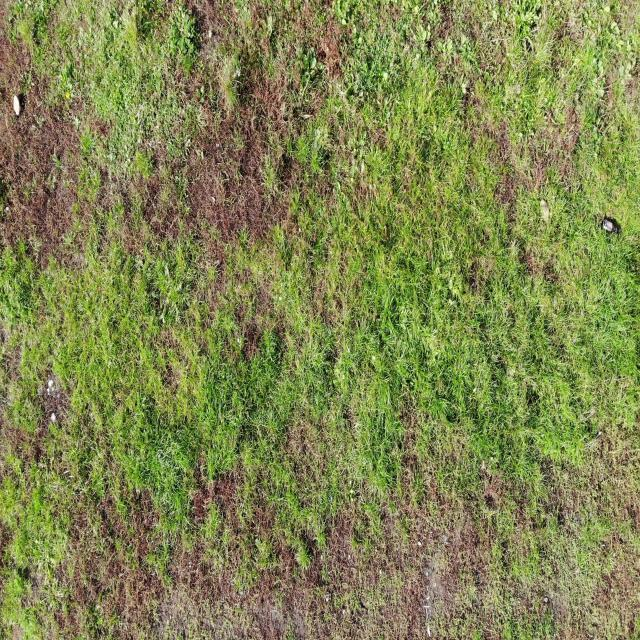rubbish: (602, 216, 622, 235), (12, 95, 20, 119)
